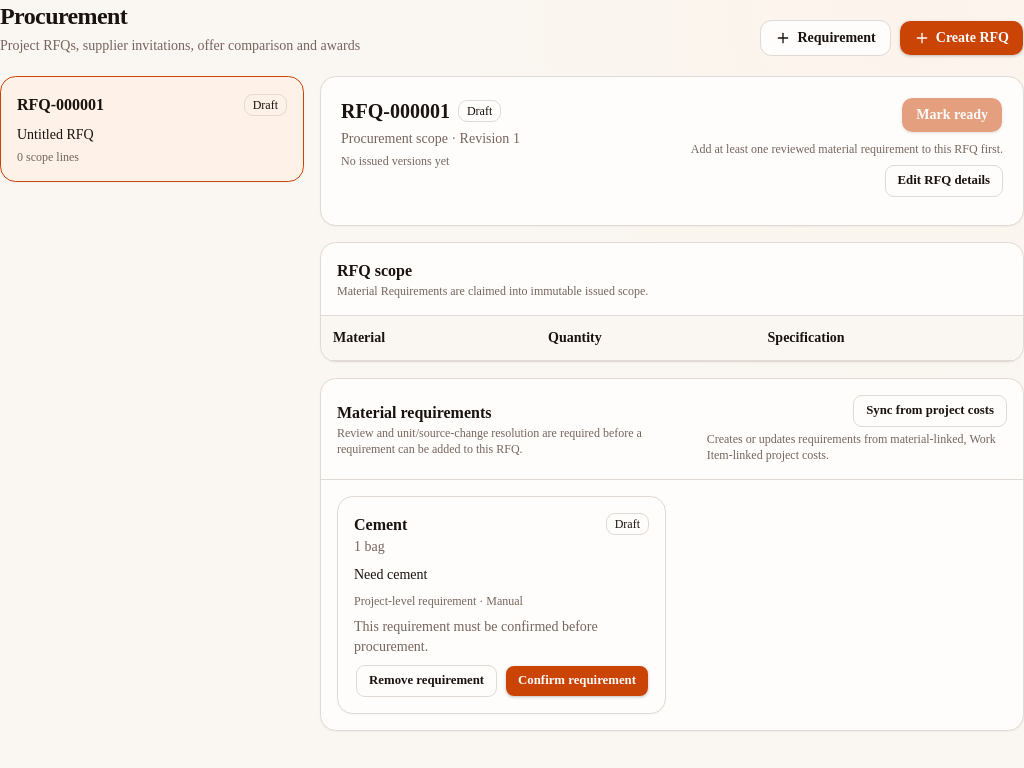
Test: ProjectProcurement state-aware requirement cards › Remove -> Archive -> after mocked success and awaited refetch, the archived requirement no longer shows Confirm/Remove
The width and height of the screenshot is (1024, 768).
Click the button "Remove requirement". click: (427, 681)
box: x1=356 y1=665 x2=497 y2=697
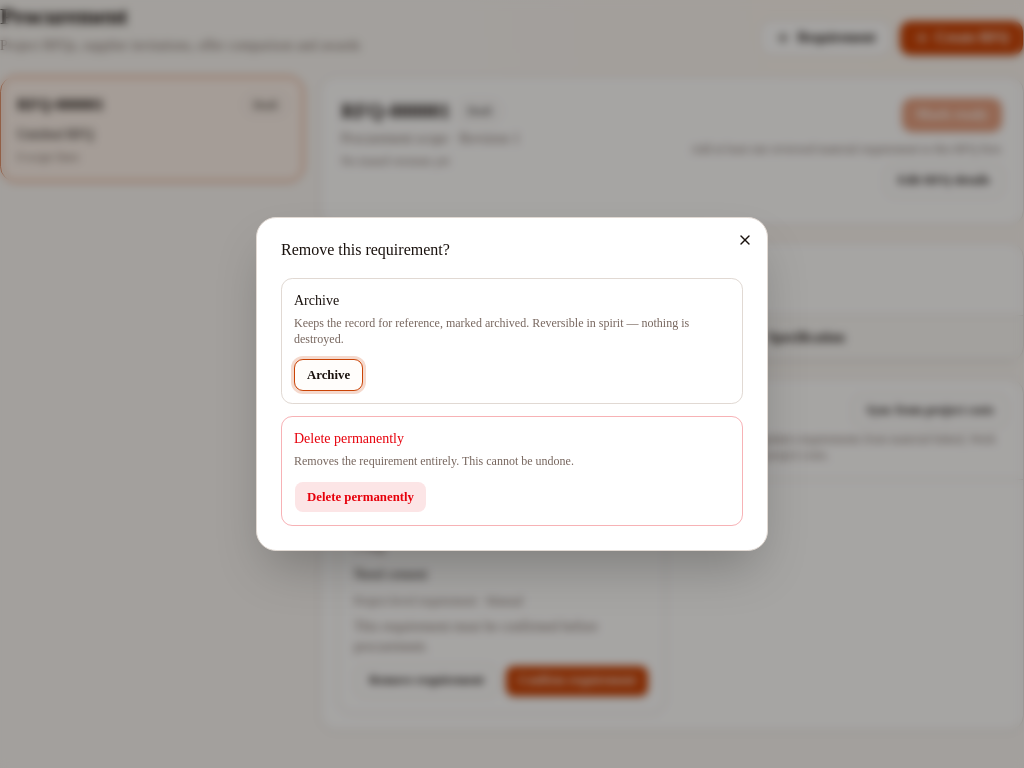
Click the button "Archive". click: (329, 375)
box: x1=294 y1=359 x2=363 y2=391
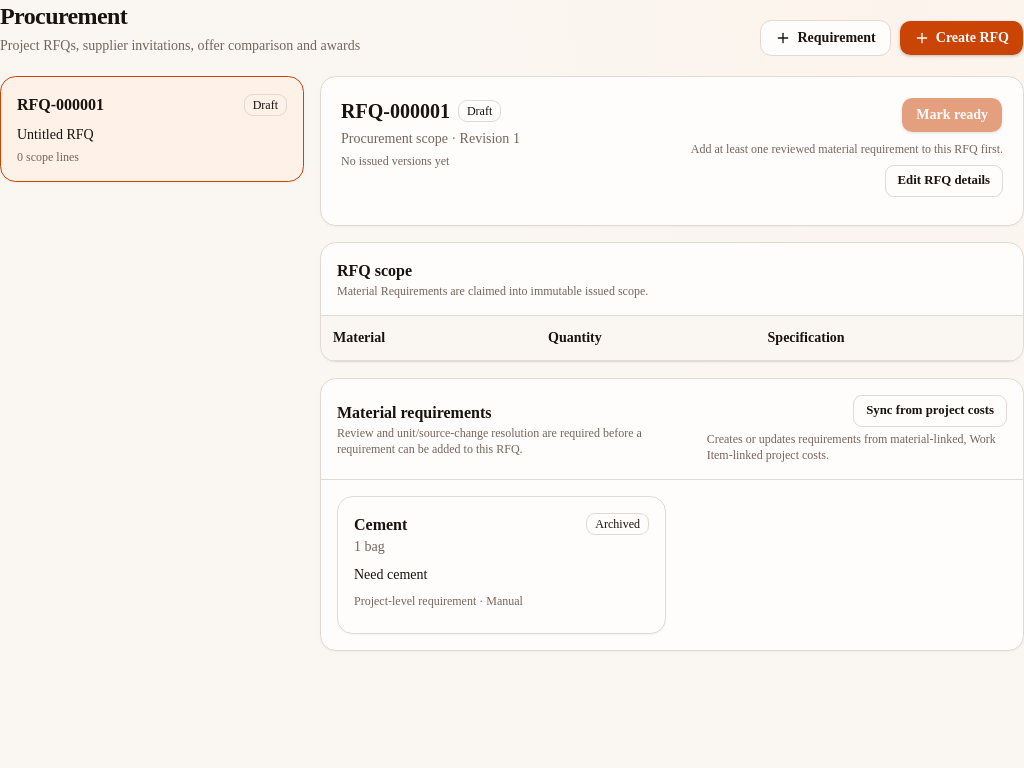
Expected: the button "Confirm requirement" is gone
Expected: the button "Remove requirement" is gone
